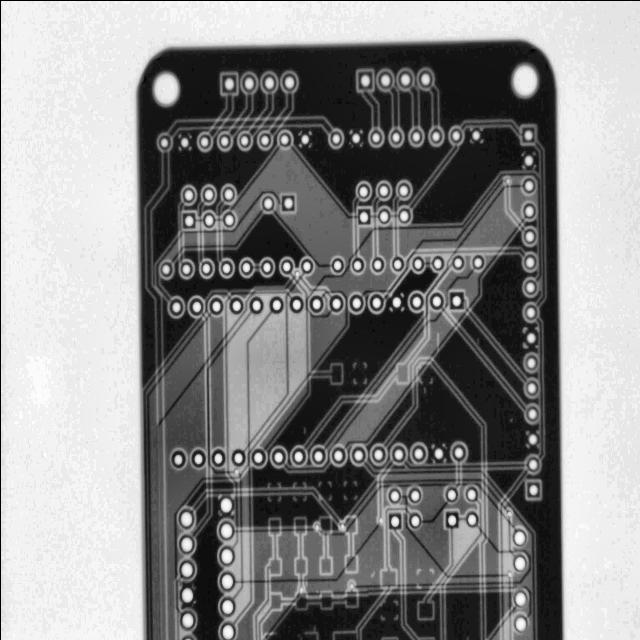Both: (507, 60, 543, 100), (151, 70, 179, 105), (394, 68, 416, 90), (215, 595, 237, 616), (376, 69, 394, 90), (406, 126, 425, 145), (325, 129, 344, 148), (258, 193, 277, 212), (246, 295, 265, 314), (188, 448, 207, 467), (287, 294, 305, 313), (186, 296, 204, 315), (348, 445, 366, 464), (220, 73, 237, 93), (280, 70, 296, 91), (426, 127, 444, 145), (446, 126, 464, 144), (207, 296, 224, 315), (269, 446, 286, 465), (178, 610, 195, 629), (218, 572, 234, 592), (387, 128, 404, 146), (448, 290, 464, 309), (417, 68, 432, 88), (229, 449, 246, 466), (328, 294, 344, 312), (240, 74, 256, 91), (278, 256, 293, 274), (179, 559, 194, 577), (259, 257, 273, 276), (299, 257, 314, 274), (210, 448, 225, 465), (309, 295, 323, 313), (251, 449, 266, 465), (358, 71, 372, 88), (219, 623, 233, 640), (444, 510, 458, 527), (523, 277, 536, 295), (331, 446, 344, 464), (217, 133, 231, 149), (228, 297, 242, 313), (520, 126, 534, 142), (262, 73, 275, 90), (348, 294, 361, 311), (357, 207, 370, 224), (371, 445, 384, 462), (291, 447, 304, 464), (179, 510, 192, 527), (269, 297, 283, 312), (281, 194, 294, 210), (429, 291, 442, 307), (377, 207, 390, 223), (391, 445, 404, 461), (388, 512, 401, 528), (171, 450, 183, 467), (410, 293, 421, 311), (181, 188, 195, 202), (182, 212, 195, 227), (397, 207, 410, 222), (444, 486, 457, 501), (369, 129, 381, 145), (369, 294, 381, 310), (220, 522, 232, 538), (220, 547, 232, 563), (219, 260, 232, 274), (524, 330, 537, 344), (524, 355, 537, 369), (258, 133, 270, 148), (525, 406, 537, 421), (513, 555, 525, 570), (514, 615, 526, 630), (180, 536, 192, 551), (408, 512, 420, 527), (199, 133, 210, 149), (223, 211, 234, 227), (312, 447, 323, 463), (157, 135, 169, 149), (452, 255, 464, 269), (522, 178, 534, 192), (526, 482, 538, 496), (238, 133, 249, 148), (222, 186, 233, 201), (332, 257, 343, 272), (180, 261, 191, 276), (412, 256, 423, 271), (377, 182, 388, 197), (524, 254, 535, 269), (514, 590, 525, 605), (452, 444, 463, 459), (412, 445, 423, 460), (220, 497, 231, 512), (388, 489, 400, 502), (351, 257, 362, 271), (170, 300, 181, 314), (392, 256, 403, 270), (397, 183, 408, 197), (523, 229, 534, 243), (524, 305, 535, 319), (525, 380, 536, 394), (527, 457, 538, 471), (513, 530, 524, 544), (181, 587, 192, 601), (466, 512, 477, 526), (240, 259, 250, 274), (201, 260, 211, 275), (523, 204, 534, 217), (409, 488, 420, 501), (203, 187, 213, 201), (372, 257, 382, 271), (160, 262, 170, 276), (358, 184, 368, 198), (466, 487, 476, 501), (203, 213, 213, 226), (527, 433, 538, 444), (279, 133, 289, 145), (351, 130, 360, 143), (391, 295, 400, 308), (470, 129, 480, 140), (179, 135, 188, 147), (433, 257, 442, 269), (434, 447, 443, 459), (472, 256, 481, 267), (523, 154, 532, 165), (346, 579, 355, 589), (505, 570, 513, 578), (376, 516, 384, 524), (301, 134, 307, 143), (313, 522, 319, 530), (181, 637, 195, 640), (233, 468, 239, 475), (338, 523, 344, 530), (506, 510, 511, 516), (299, 586, 303, 593)
L1: (284, 262, 488, 465), (172, 278, 292, 549), (383, 358, 486, 640), (226, 308, 271, 625), (372, 220, 525, 299), (144, 148, 167, 640), (423, 496, 491, 640), (440, 306, 527, 410), (260, 271, 309, 449), (480, 464, 528, 640), (355, 503, 411, 640), (459, 297, 526, 384), (187, 311, 210, 536), (413, 526, 465, 621), (408, 143, 458, 207), (390, 527, 416, 640), (246, 564, 277, 640), (261, 91, 298, 136), (241, 91, 278, 135), (230, 472, 242, 598), (222, 92, 257, 135), (202, 93, 237, 135), (497, 183, 525, 234), (370, 457, 393, 517), (294, 274, 332, 300), (252, 604, 272, 640), (295, 519, 305, 587), (362, 90, 377, 129), (215, 199, 224, 262), (308, 364, 340, 381), (320, 518, 330, 572), (269, 519, 279, 573), (370, 196, 378, 258), (391, 194, 399, 256), (389, 86, 400, 129), (197, 199, 204, 263), (352, 195, 359, 257), (504, 516, 514, 556), (429, 85, 438, 129), (178, 200, 184, 263), (409, 86, 417, 129), (507, 576, 511, 639), (333, 633, 357, 640), (454, 461, 460, 488), (320, 592, 331, 606), (345, 517, 355, 532), (346, 555, 355, 570), (271, 594, 280, 608), (296, 594, 305, 607), (346, 591, 355, 604), (301, 633, 316, 640), (332, 596, 346, 600), (349, 532, 351, 555), (306, 598, 321, 601), (280, 599, 295, 602), (458, 517, 465, 519)
L2: (122, 271, 359, 640), (314, 175, 522, 449), (363, 407, 590, 640), (86, 279, 232, 640), (283, 263, 491, 486), (343, 214, 533, 455), (289, 167, 555, 319), (104, 305, 210, 640), (142, 261, 296, 424), (357, 177, 516, 306), (140, 168, 282, 300), (378, 492, 507, 605), (352, 522, 530, 587), (243, 267, 304, 455), (316, 481, 515, 535), (194, 306, 252, 474), (339, 469, 507, 524), (233, 522, 381, 582), (301, 580, 531, 618), (162, 208, 270, 263), (190, 486, 341, 525), (284, 144, 358, 222), (265, 208, 332, 272), (228, 143, 281, 211), (168, 118, 333, 135), (262, 591, 299, 640), (533, 142, 544, 305), (403, 460, 525, 470), (488, 605, 516, 640), (419, 497, 451, 527), (536, 317, 542, 458), (460, 121, 521, 134), (234, 527, 314, 531), (390, 214, 397, 216), (370, 215, 377, 217), (215, 218, 222, 220), (195, 219, 202, 220)
